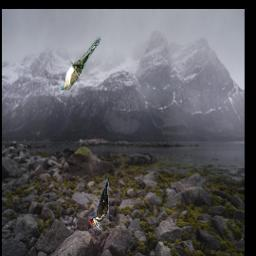Cuckoo: (59, 35, 101, 91)
Woodpecker: (88, 174, 109, 231)
